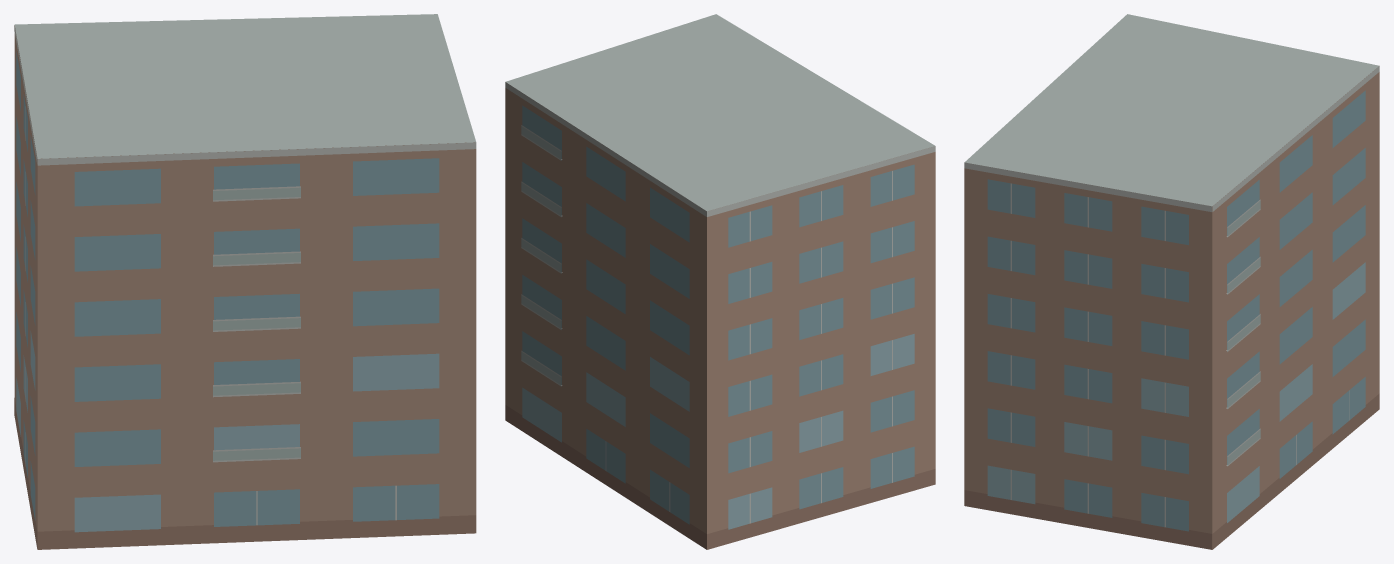
File: survey-upis-33021411.glb
The picture shows the model from 3 angles, left to right: view 1: azimuth 30°, elevation 25°; view 2: azimuth 150°, elevation 25°; view 3: azimuth 270°, elevation 25°; orthographic projection. The views are drawn at different scales.
Visible parts, largest first — view 1: survey-upis-33021411.tmp; view 2: survey-upis-33021411.tmp; view 3: survey-upis-33021411.tmp.
Part boxes in pixels (box(x1,y1,x2,y2)): survey-upis-33021411.tmp: box(14, 14, 476, 549); survey-upis-33021411.tmp: box(505, 14, 935, 549); survey-upis-33021411.tmp: box(964, 14, 1379, 549).
Bounding box in the file's own units: 17.06 × 14.2 × 15.56.
